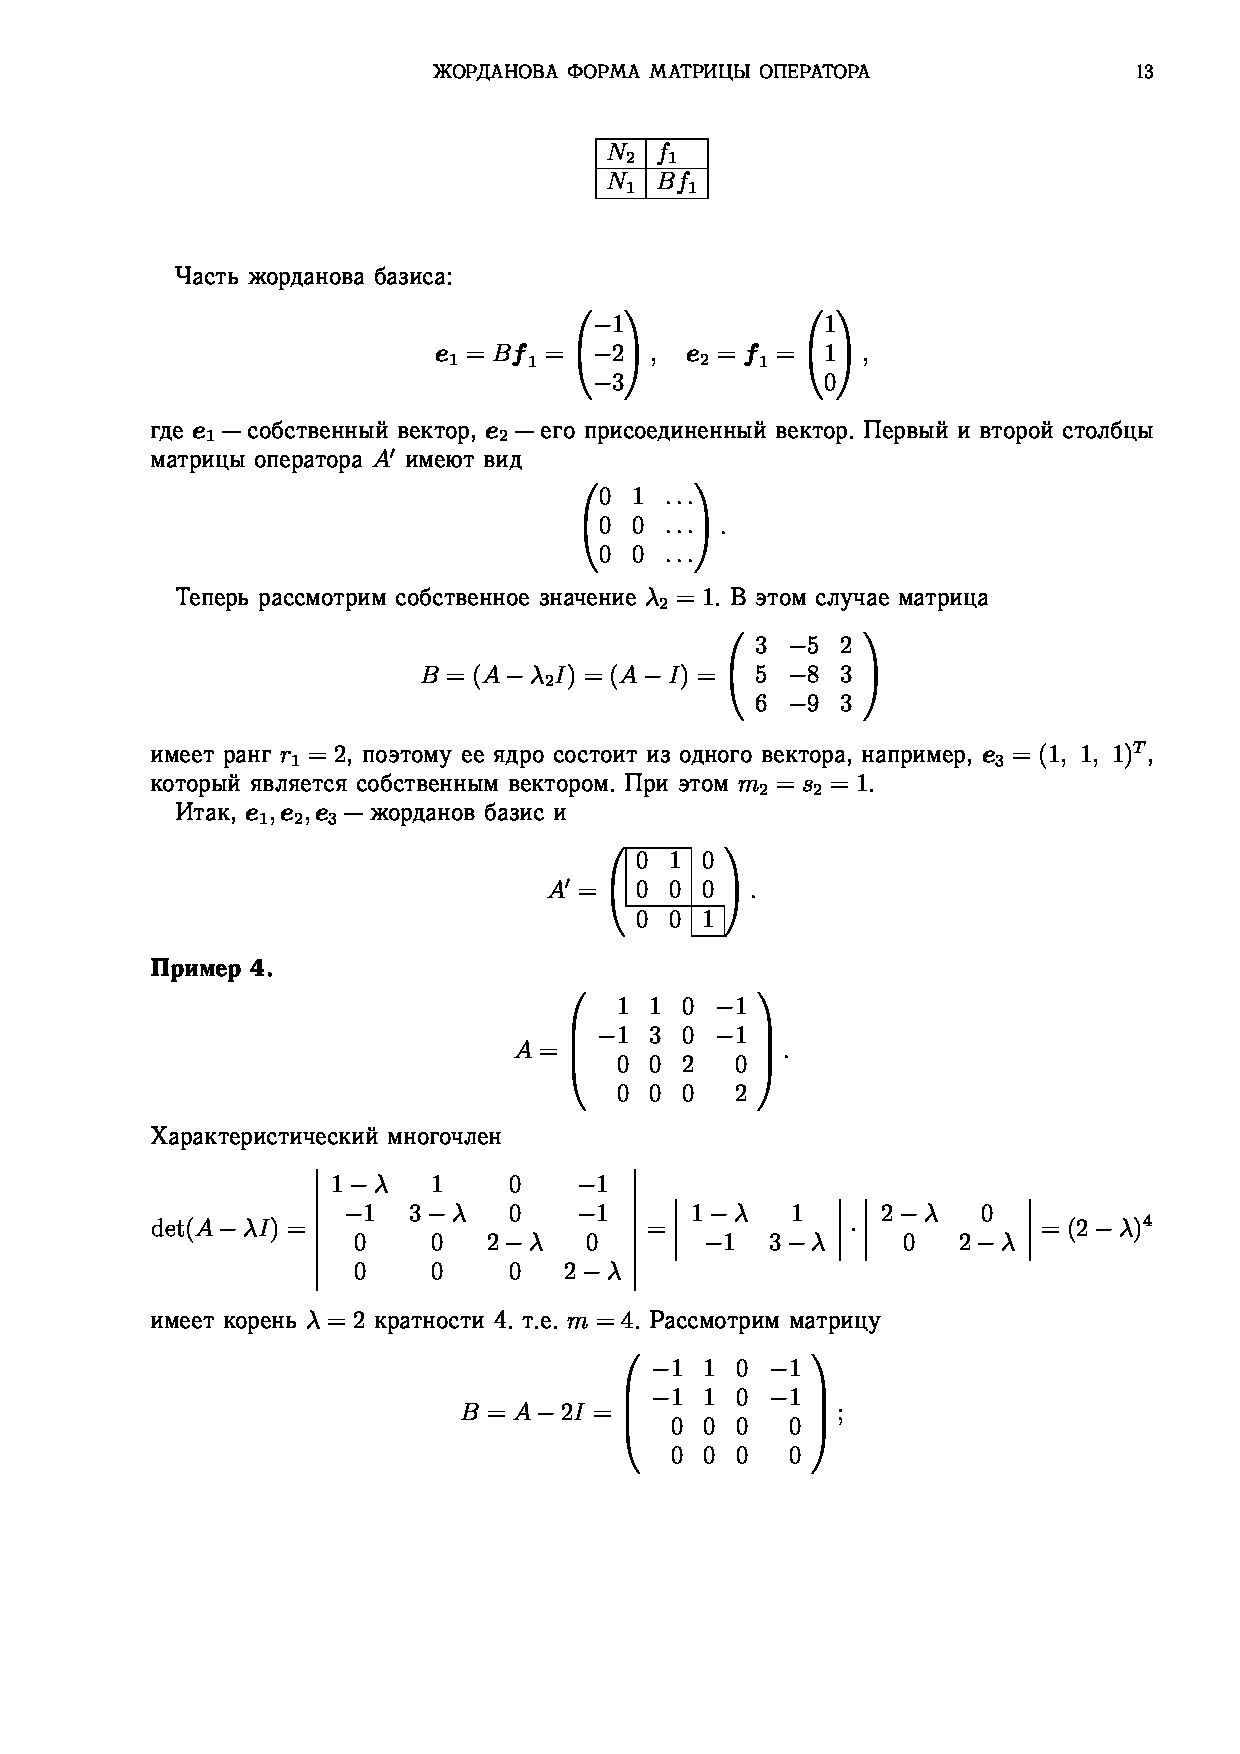lMatrix: (309, 1164, 645, 1295), (860, 1189, 1037, 1267), (670, 1198, 849, 1267)
pMatrix: (624, 1347, 829, 1484), (570, 989, 773, 1115), (727, 627, 882, 726), (582, 478, 710, 580), (611, 844, 739, 935), (577, 309, 644, 407), (807, 311, 851, 403)
